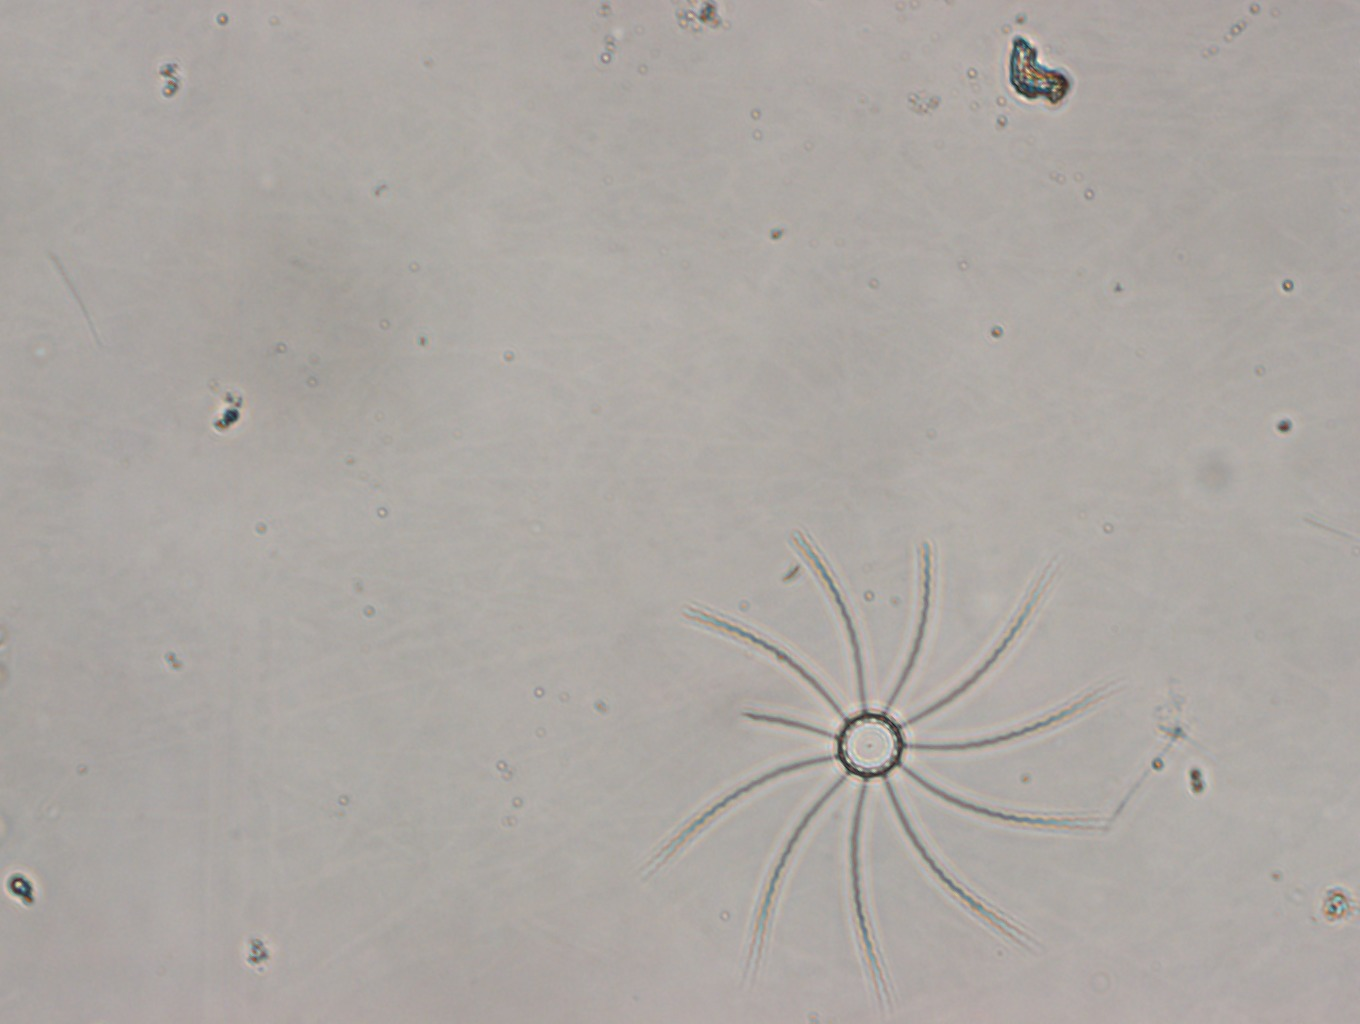bacteriastrum: (644, 522, 1127, 1000)
